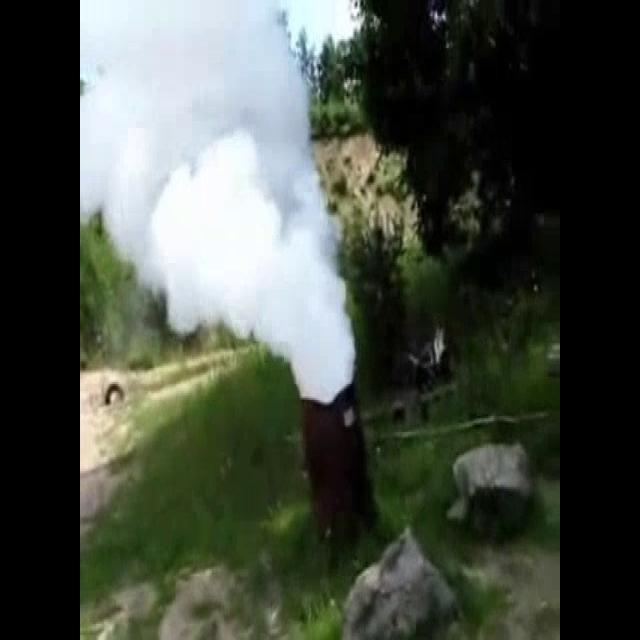Smoke: (80, 0, 356, 403)
